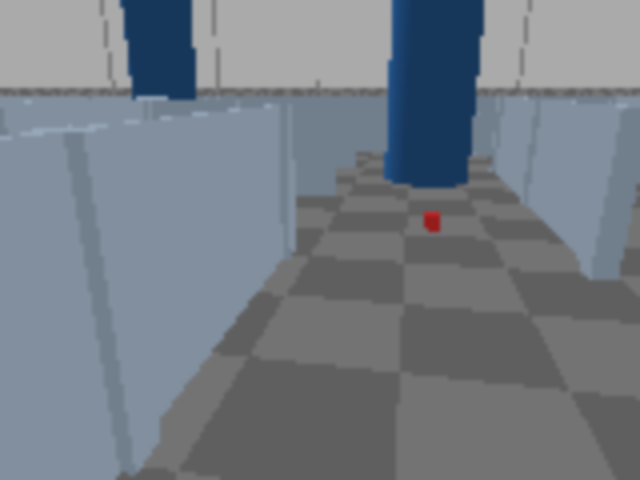puck: (424, 213, 442, 231)
